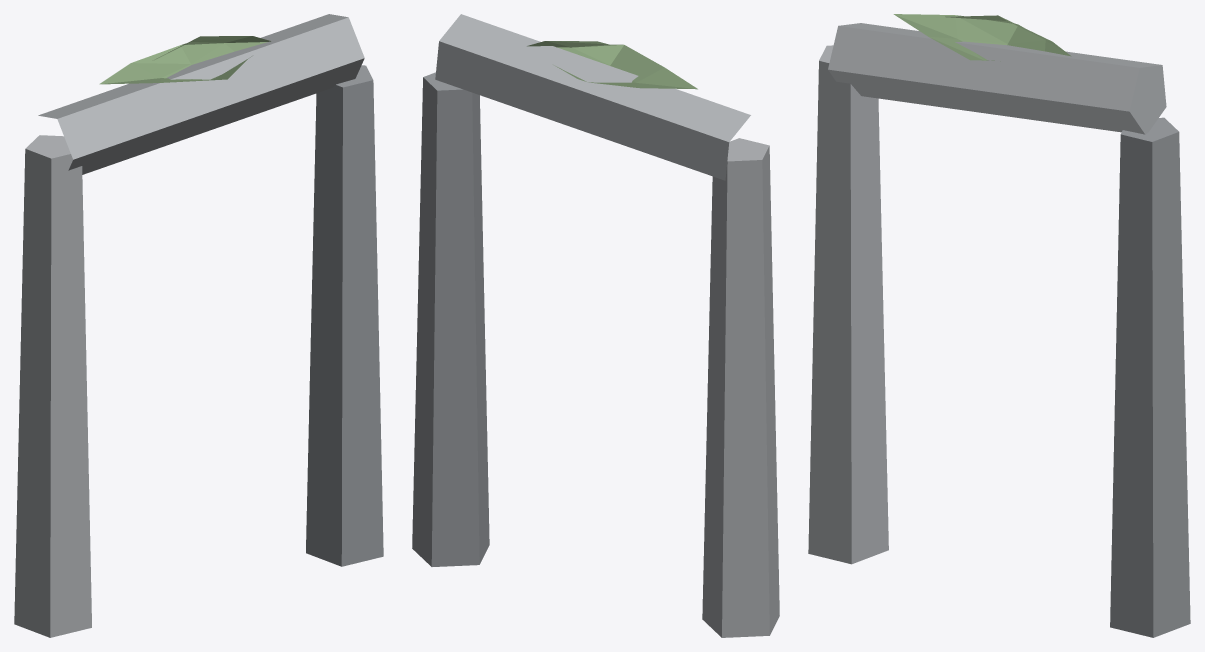
The model's file is arch_rock_v07.glb.
The picture shows the model from 3 angles, left to right: view 1: azimuth 30°, elevation 25°; view 2: azimuth 150°, elevation 25°; view 3: azimuth 330°, elevation 25°; orthographic projection. The views are drawn at different scales.
Visible parts, largest first — view 1: lod0; view 2: lod0; view 3: lod0.
Part boxes in pixels (x1=…): lod0: x1=14, y1=14, x2=383, y2=637; lod0: x1=412, y1=14, x2=779, y2=637; lod0: x1=808, y1=14, x2=1190, y2=637.
Size of what is drawn, in the model's own units: 2.22 by 3.24 by 0.5104.
